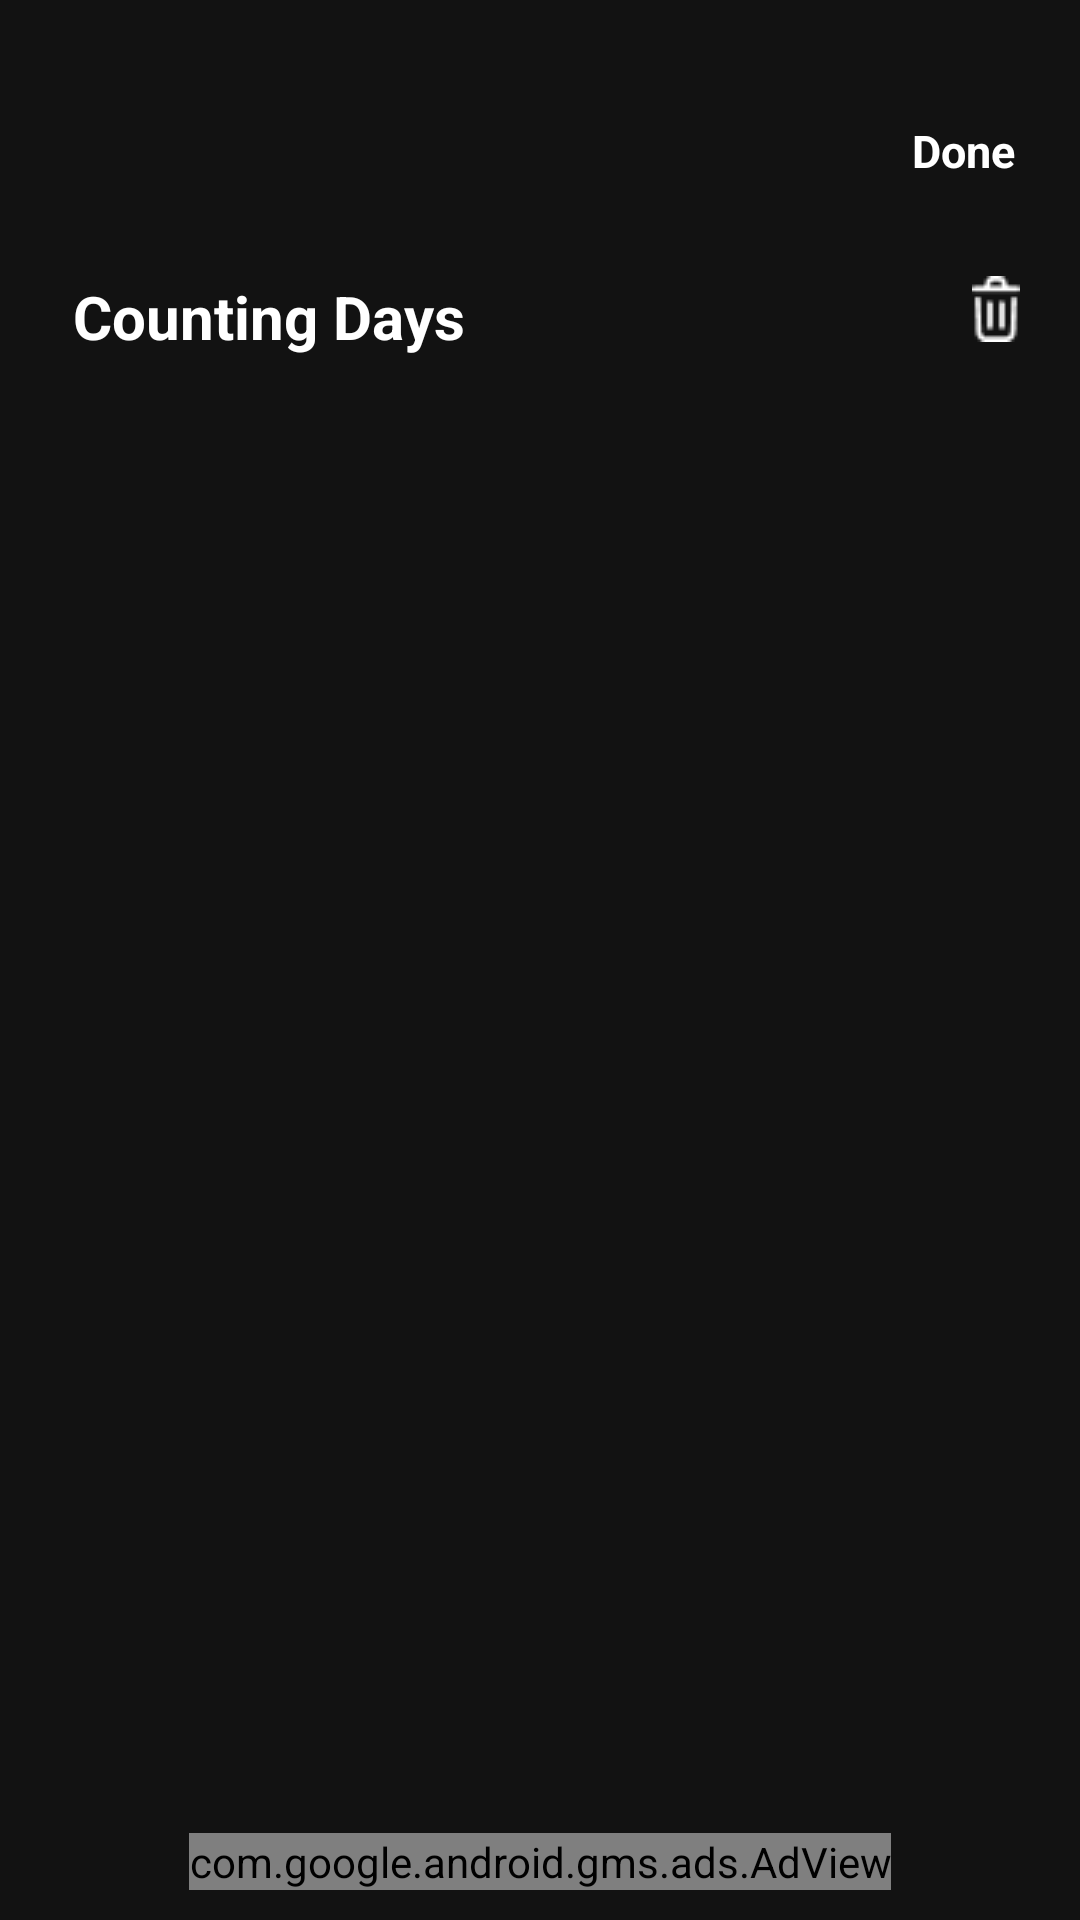

Named icons in this screenshot (1080×1920) and their bounding boxes, bbox=(x1, y1, x2, y2):
delete countdown: bbox=(972, 276, 1020, 342)
